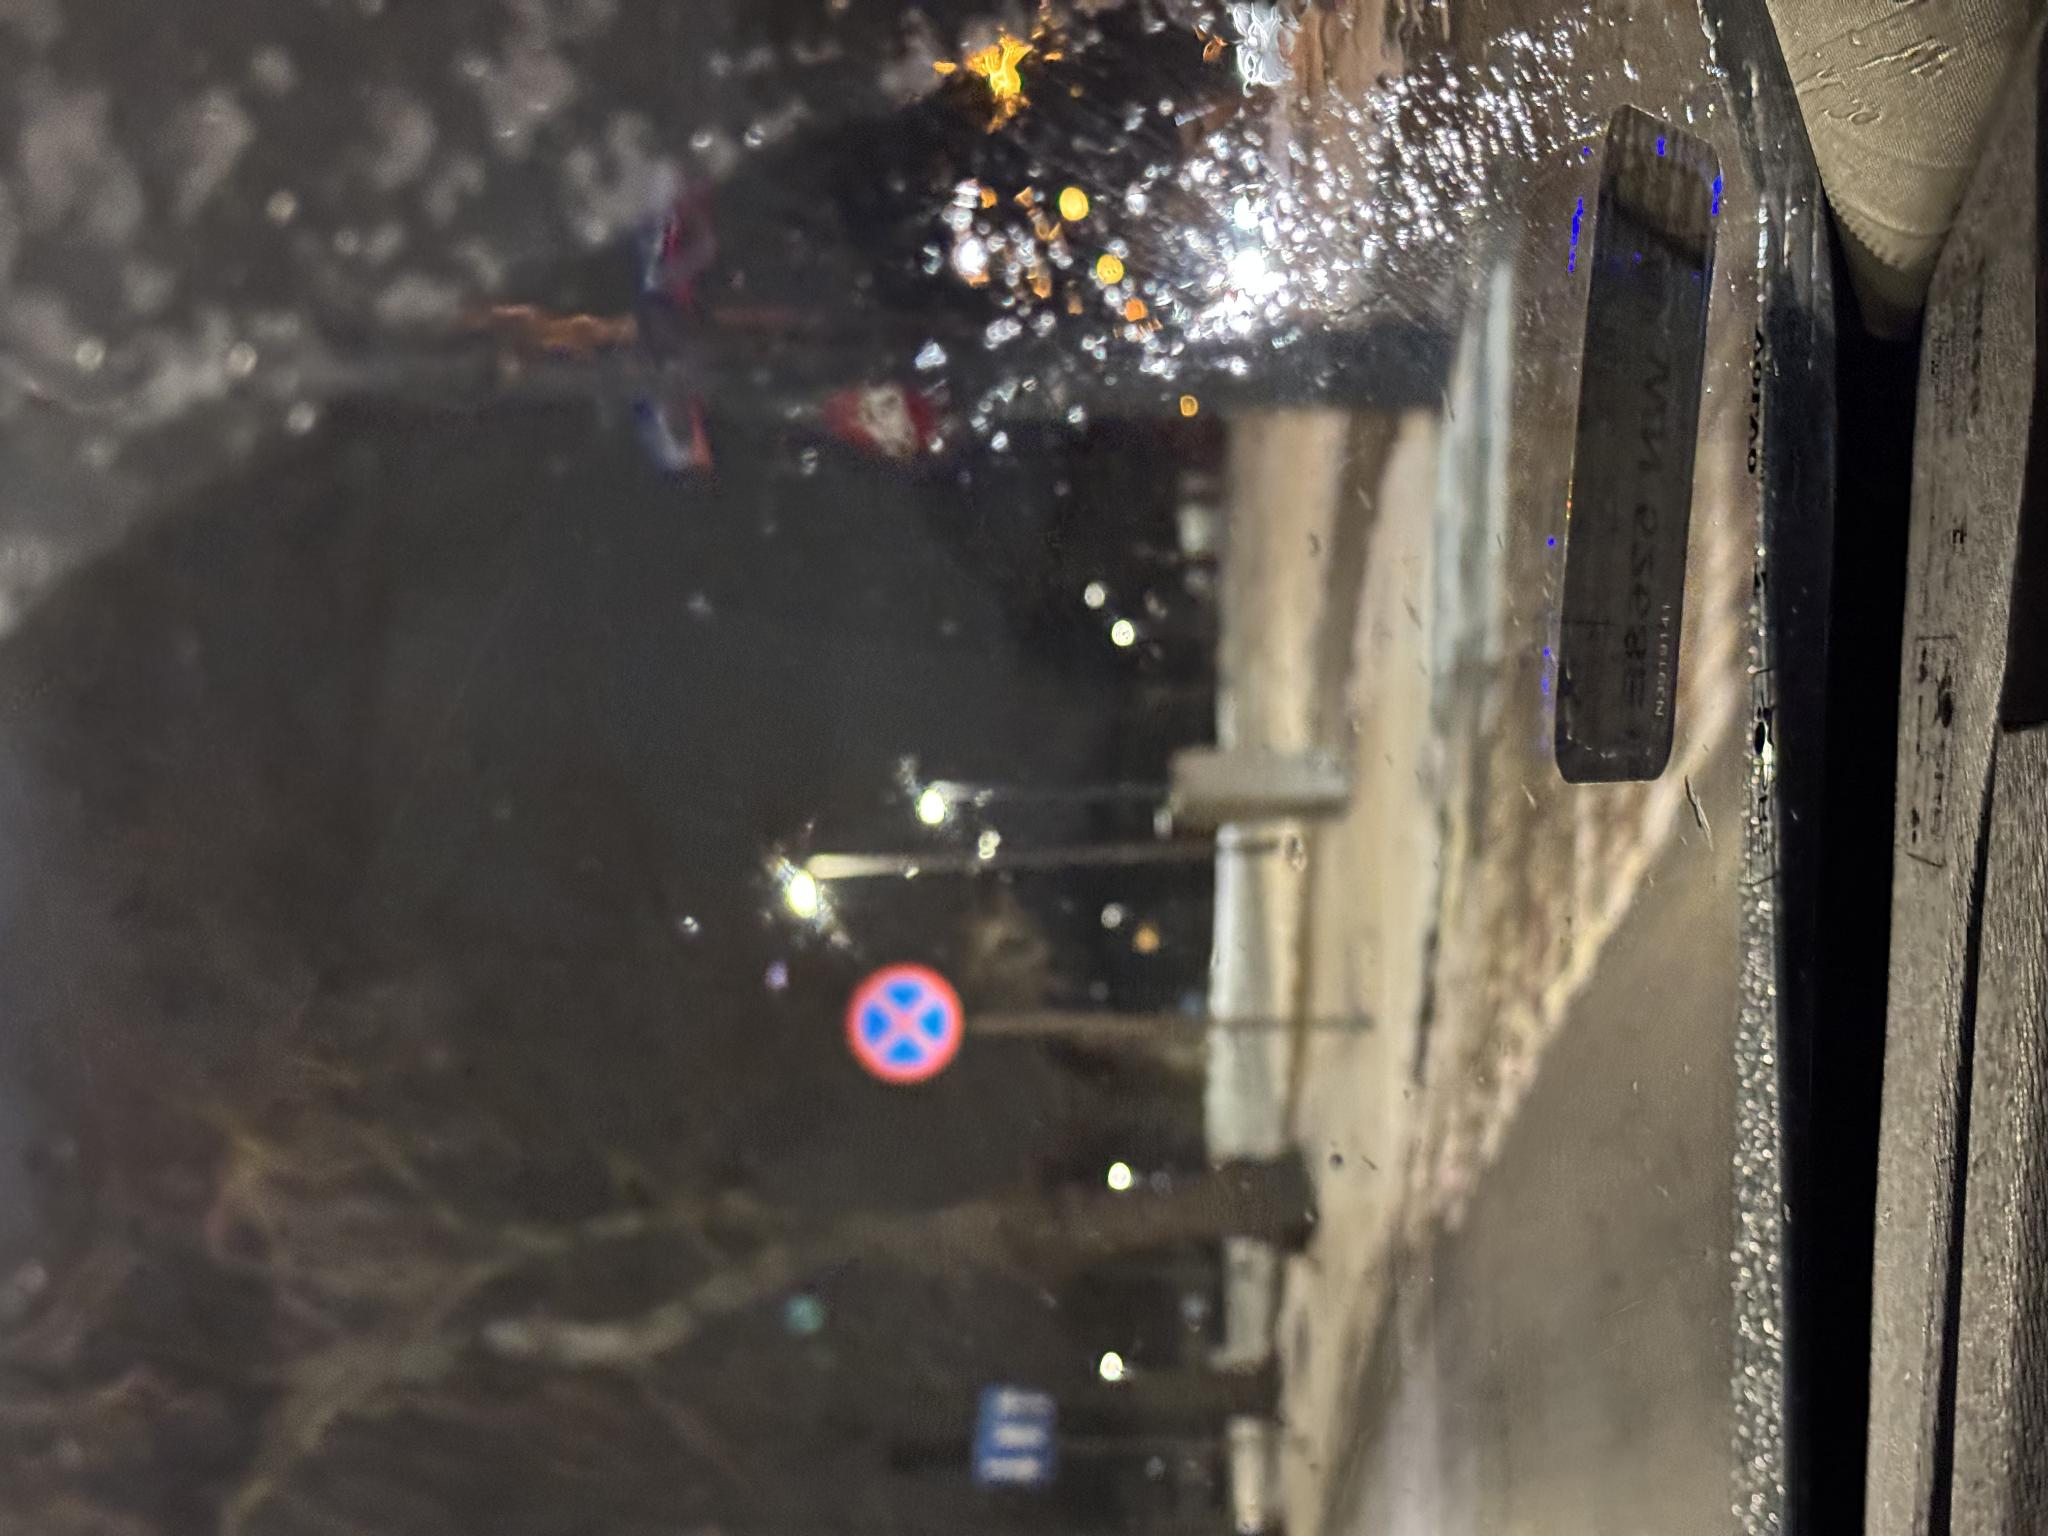other: (50, 973, 153, 1054)
prohibitory: (452, 847, 572, 968), (1079, 826, 1161, 958)
